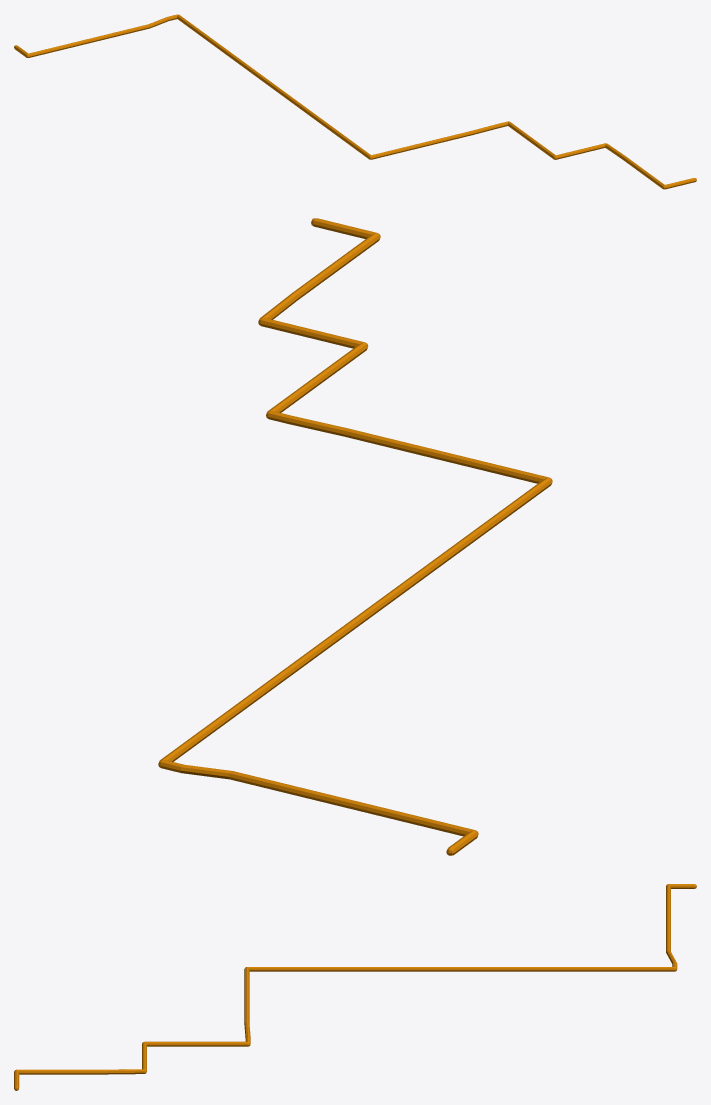
3 views of the same model, one above another, from view 1: azimuth 30°, elevation 25°; view 2: azimuth 150°, elevation 25°; view 3: azimuth 270°, elevation 25° (orthographic). The views are drawn at different scales.
Size of the model in its own units: 1864 by 20 by 2634.
